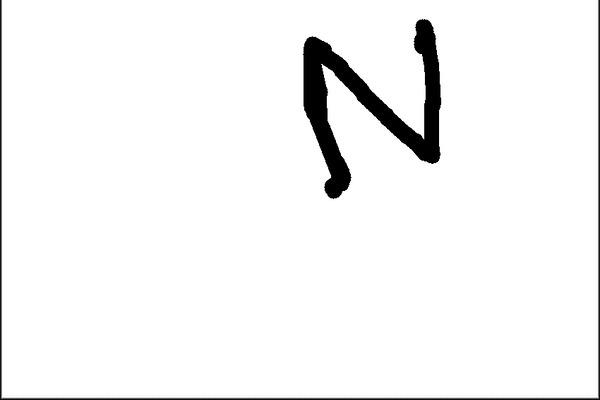N: (290, 14, 448, 200)
